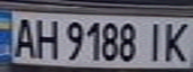1: (81, 18, 103, 62)
8: (115, 19, 142, 63), (100, 19, 121, 62)
9: (60, 17, 84, 61)
A: (9, 15, 39, 58)
H: (30, 15, 60, 60)
I: (142, 19, 169, 63)
K: (160, 19, 193, 64)
